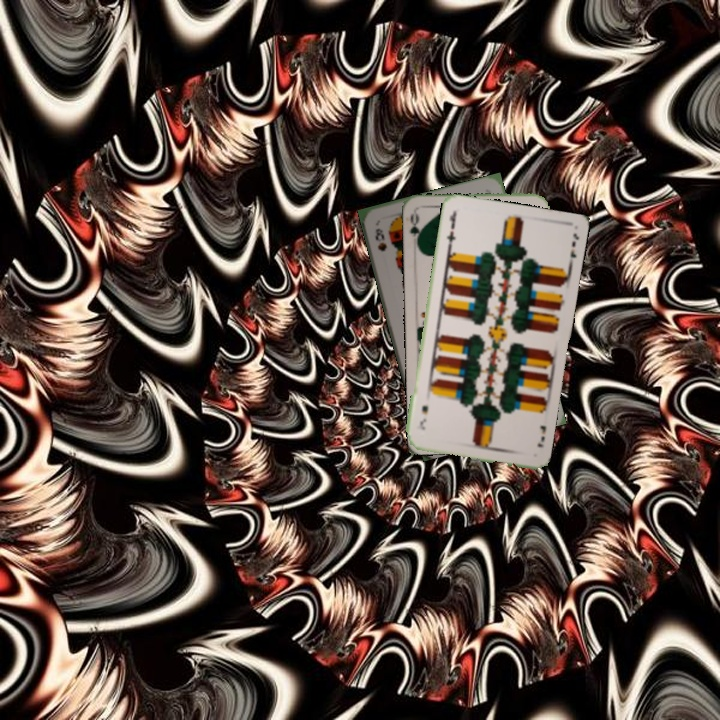E7: (442, 208, 459, 249), (533, 422, 548, 450)
GO: (406, 209, 425, 250)
S8: (371, 224, 389, 254)
